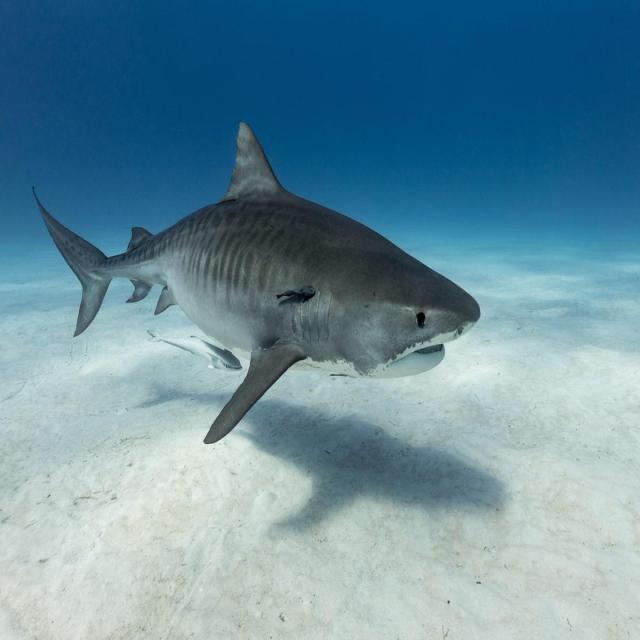shark: (35, 122, 479, 443), (148, 330, 242, 370)
